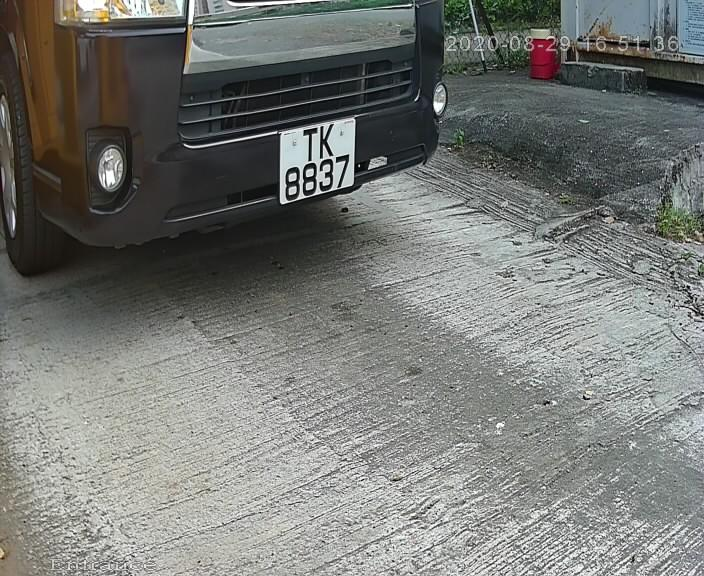Car: (13, 1, 525, 307)
License Plate: (268, 111, 365, 209)
